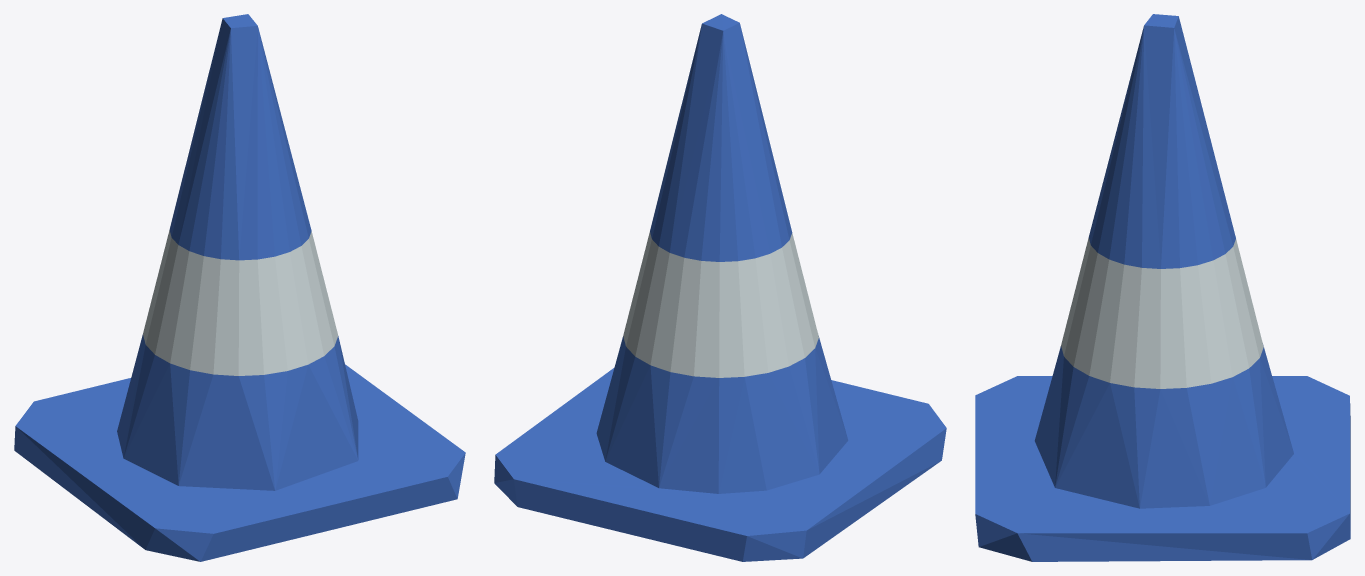
Rendered from cone_blue.dae.
3 views of the same model, side by side, from view 1: azimuth 30°, elevation 25°; view 2: azimuth 150°, elevation 25°; view 3: azimuth 270°, elevation 25° (orthographic). The views are drawn at different scales.
Parts seen in each view (by area): view 1: node; view 2: node; view 3: node.
Part boxes in pixels (x1,y1,x2,y2): node: [14, 14, 465, 561]; node: [494, 14, 946, 561]; node: [975, 14, 1350, 561].
Bounding box in the file's own units: 0.2254 × 0.224 × 0.3034.
